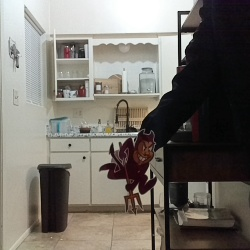sparky: (98, 128, 157, 214)
